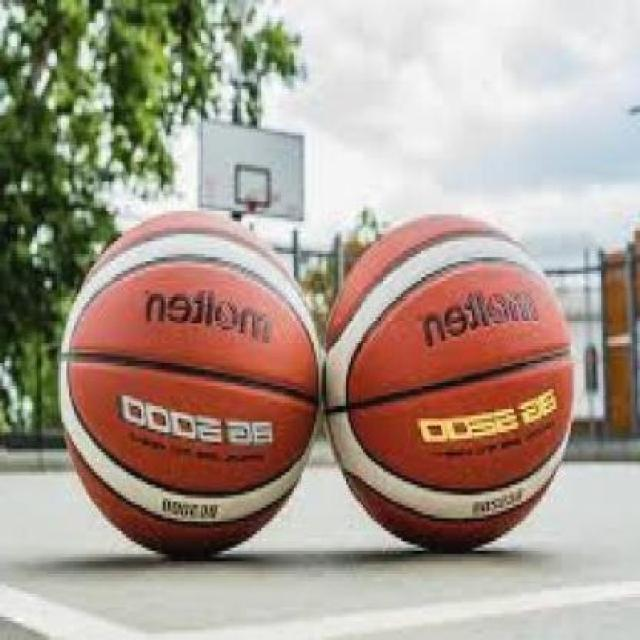Ball: (60, 214, 322, 548), (326, 215, 574, 543)
